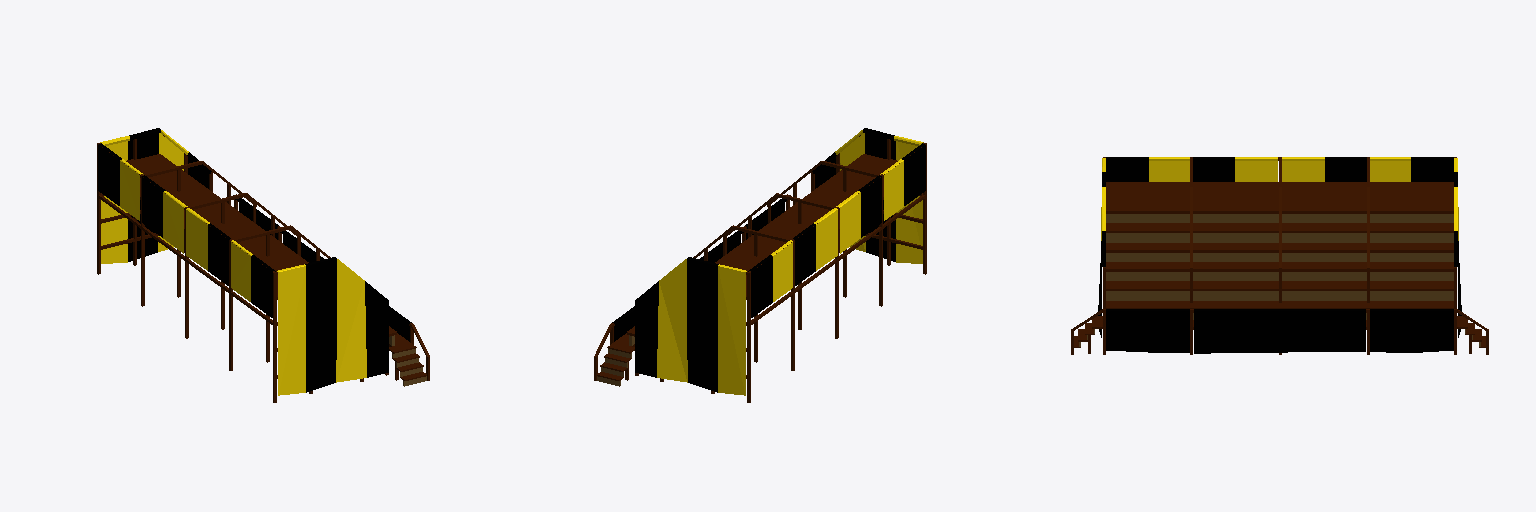
The model's file is Platform_black_yellow.obj.
The picture shows the model from 3 angles: view 1: azimuth 30°, elevation 25°; view 2: azimuth 150°, elevation 25°; view 3: azimuth 270°, elevation 25°; orthographic projection.
Visible parts, largest first — view 1: Platform_01; view 2: Platform_01; view 3: Platform_01.
Boxes of the visible parts, x1,y1,x2,y2 form: Platform_01: [97, 128, 429, 402]; Platform_01: [594, 128, 926, 402]; Platform_01: [1071, 157, 1488, 354].
Bounding box in the file's own units: 5.63 × 4.96 × 14.4.